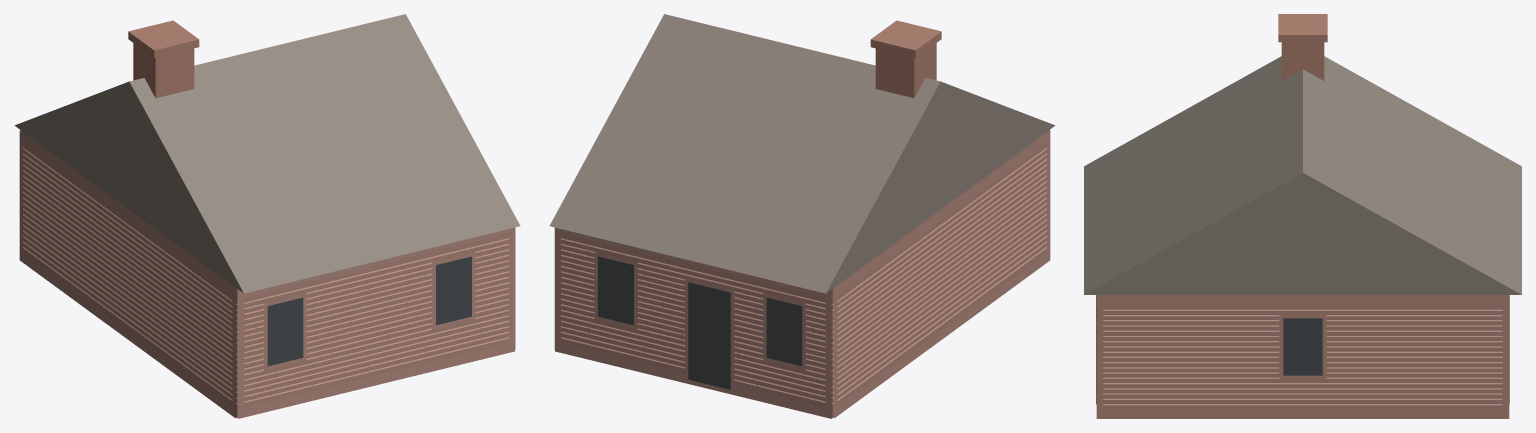
File: recon_1835_north_d4_017__inferred_1835.glb
The picture shows the model from 3 angles, left to right: view 1: azimuth 30°, elevation 25°; view 2: azimuth 150°, elevation 25°; view 3: azimuth 270°, elevation 25°; orthographic projection. The views are drawn at different scales.
Visible parts, largest first — view 1: recon_1835_north_d4_017__inferred_1835; view 2: recon_1835_north_d4_017__inferred_1835; view 3: recon_1835_north_d4_017__inferred_1835.
Boxes of the visible parts, x1=… form: recon_1835_north_d4_017__inferred_1835: x1=14, y1=14, x2=520, y2=418; recon_1835_north_d4_017__inferred_1835: x1=549, y1=14, x2=1055, y2=418; recon_1835_north_d4_017__inferred_1835: x1=1084, y1=14, x2=1521, y2=418.
Size of the model in its own units: 6.08 by 6.13 by 8.64.
